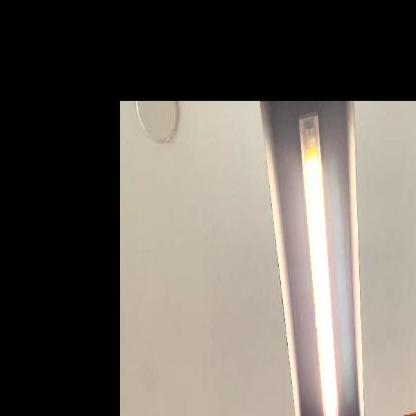light_on: (291, 107, 345, 415)
